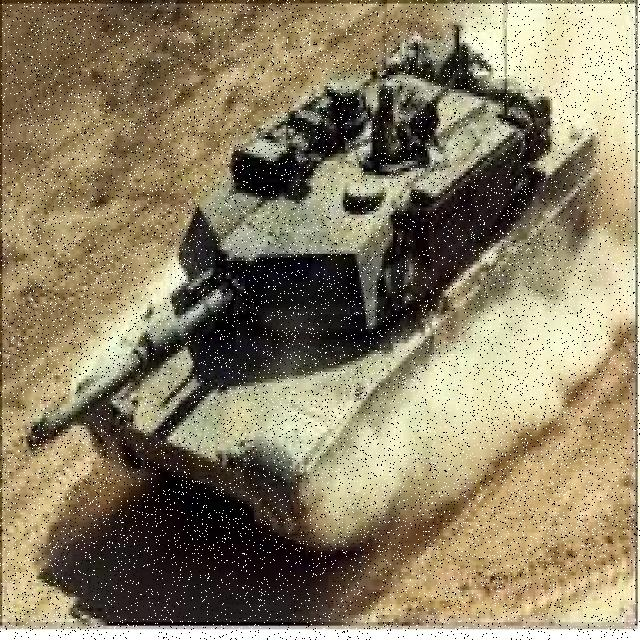MIL_MBT: (27, 18, 603, 561)
